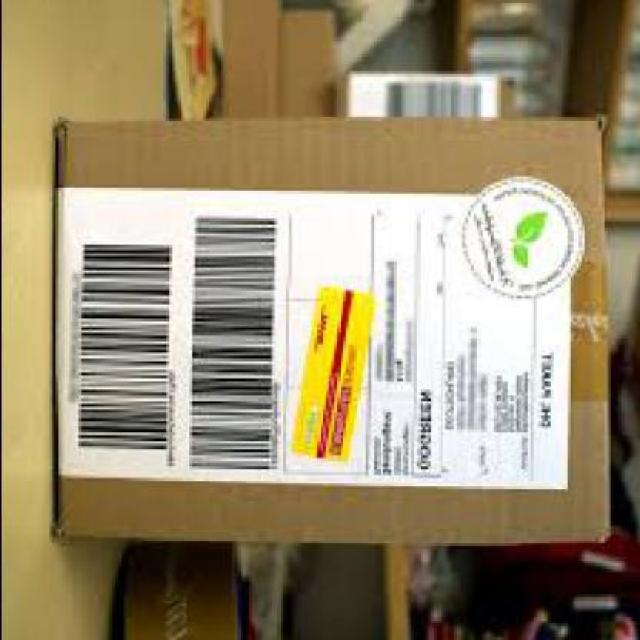CARDBOARD: (51, 122, 614, 549), (273, 15, 344, 122), (339, 77, 515, 120), (222, 2, 278, 122)
